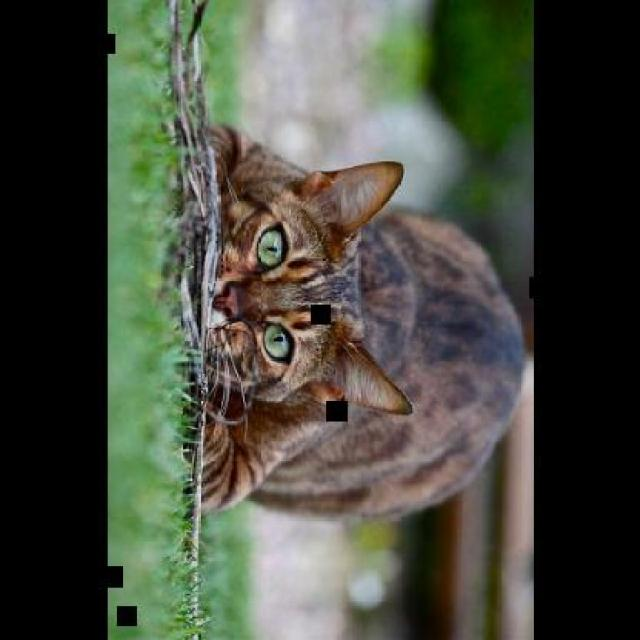unauthorized: (179, 121, 526, 522)
